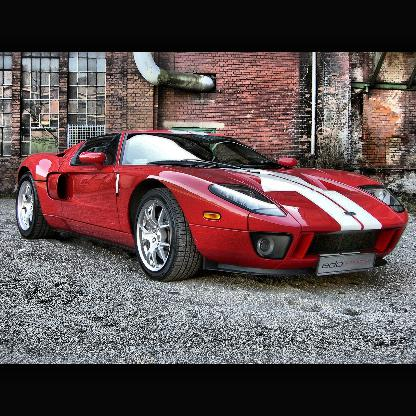Ford GT Coupe 2006: (15, 132, 409, 284)
